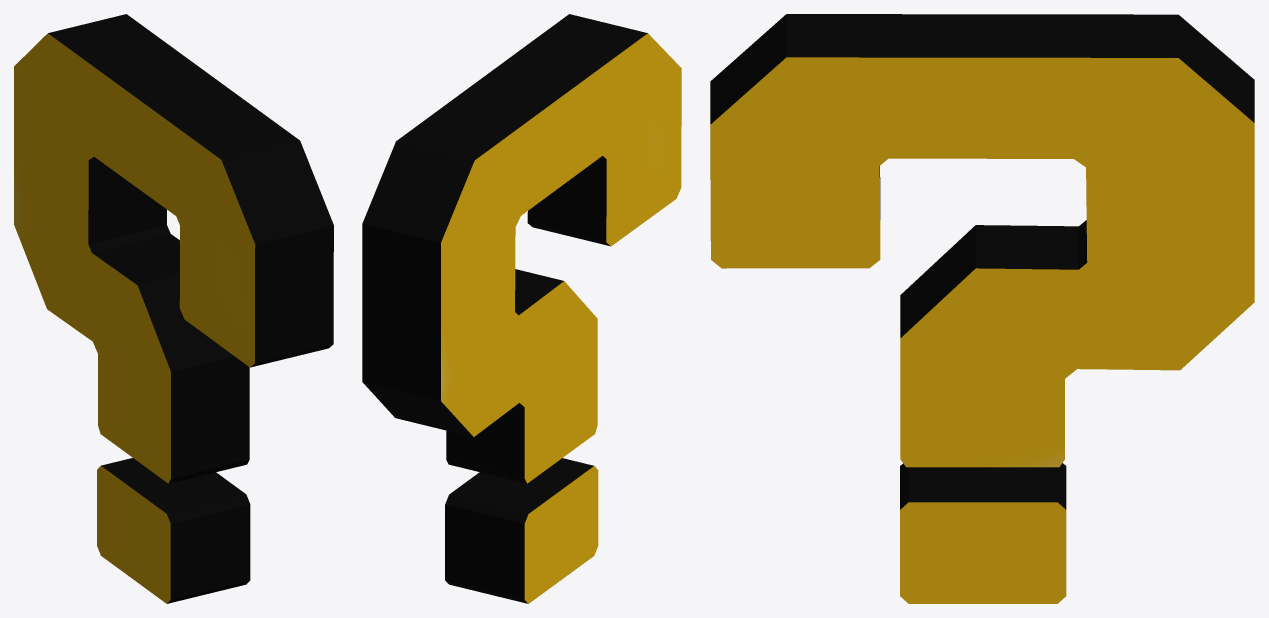
Rendered from Question.fbx.
The picture shows the model from 3 angles, left to right: view 1: azimuth 30°, elevation 25°; view 2: azimuth 150°, elevation 25°; view 3: azimuth 270°, elevation 25°; orthographic projection. The views are drawn at different scales.
Visible parts, largest first — view 1: Question; view 2: Question; view 3: Question.
Boxes of the visible parts, x1,y1,x2,y2 form: Question: (14,14,333,603); Question: (362,14,681,603); Question: (710,14,1254,603).
Bounding box in the file's own units: 0.06 × 0.348 × 0.3144.
